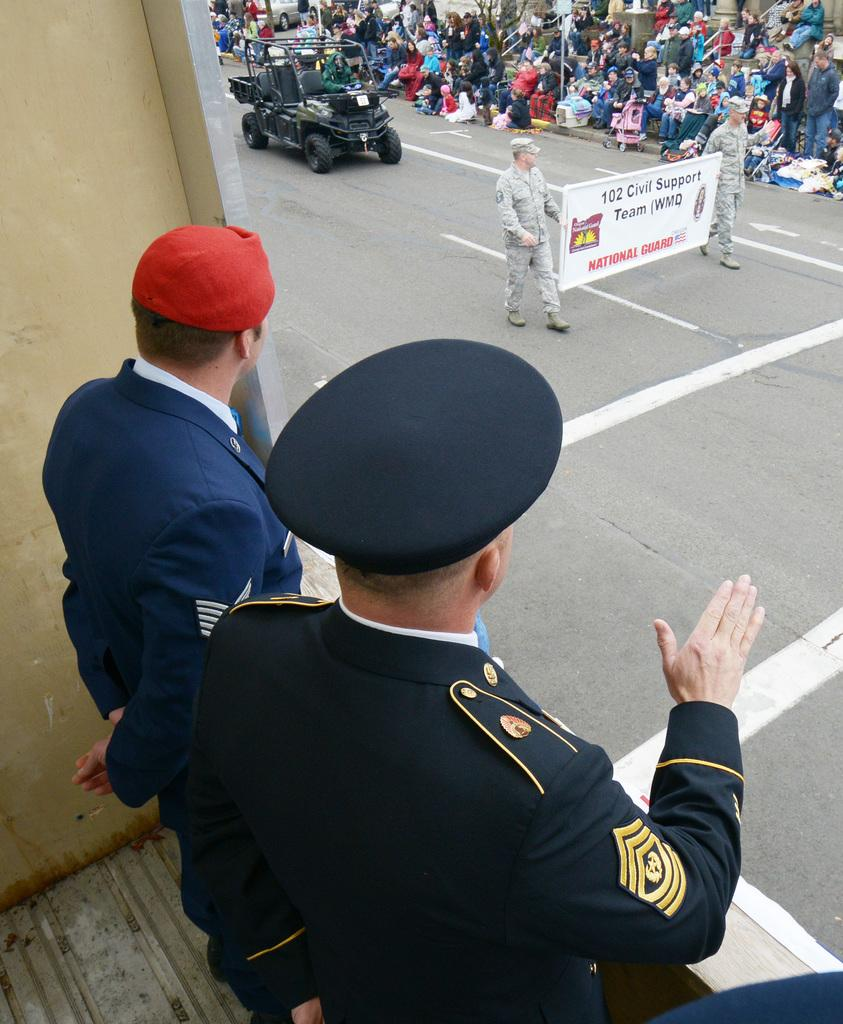Hat: (264, 333, 565, 580), (508, 137, 542, 156), (729, 100, 746, 118)
